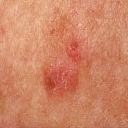Actinic: (41, 27, 84, 95)
